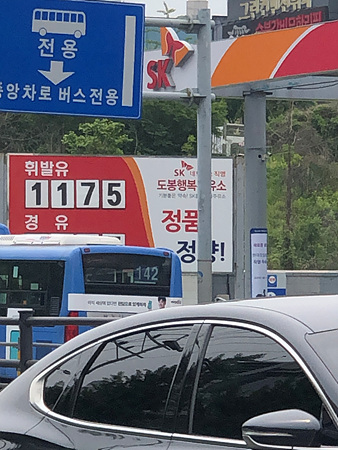bnum: (134, 262, 160, 282)
